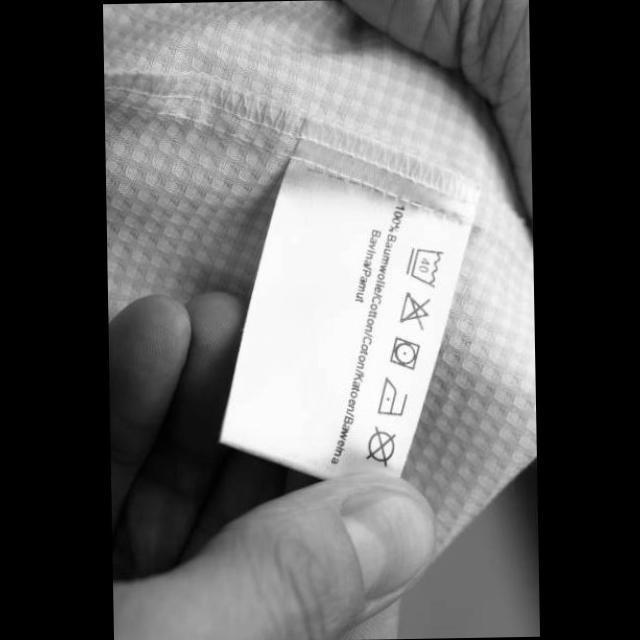40C: (402, 244, 446, 290)
DN_bleach: (396, 290, 432, 332)
DN_dry_clean: (362, 424, 396, 466)
iron_low: (374, 374, 409, 420)
tumble_dry_low: (386, 334, 421, 372)
